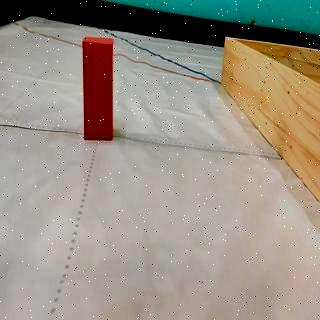redbox: (81, 36, 112, 141)
